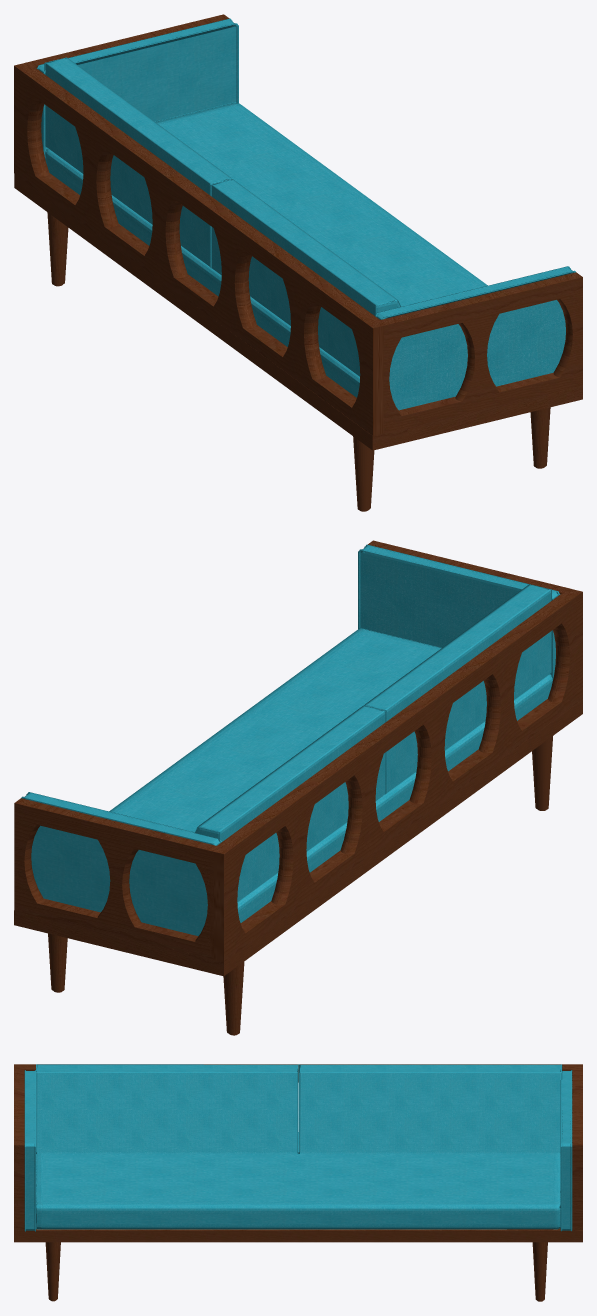
The model's file is CLEMANTINEDONE3.glb_opt2.glb.
The picture shows the model from 3 angles, top to bottom: view 1: azimuth 30°, elevation 25°; view 2: azimuth 150°, elevation 25°; view 3: azimuth 270°, elevation 25°; orthographic projection. The views are drawn at different scales.
Visible parts, largest first — view 1: Cylinder.006, Cylinder.001; view 2: Cylinder.006, Cylinder.001; view 3: Cylinder.006, Cylinder.001.
Part boxes in pixels (x1,y1,x2,y2): Cylinder.006: (36,18,575,410); Cylinder.001: (14,14,582,511); Cylinder.006: (21,544,560,936); Cylinder.001: (14,540,582,1035); Cylinder.006: (24,1064,572,1231); Cylinder.001: (14,1064,582,1301).
Size of the model in its own units: 0.8105 by 0.7749 by 2.38.
2 materials, 2 textured.
